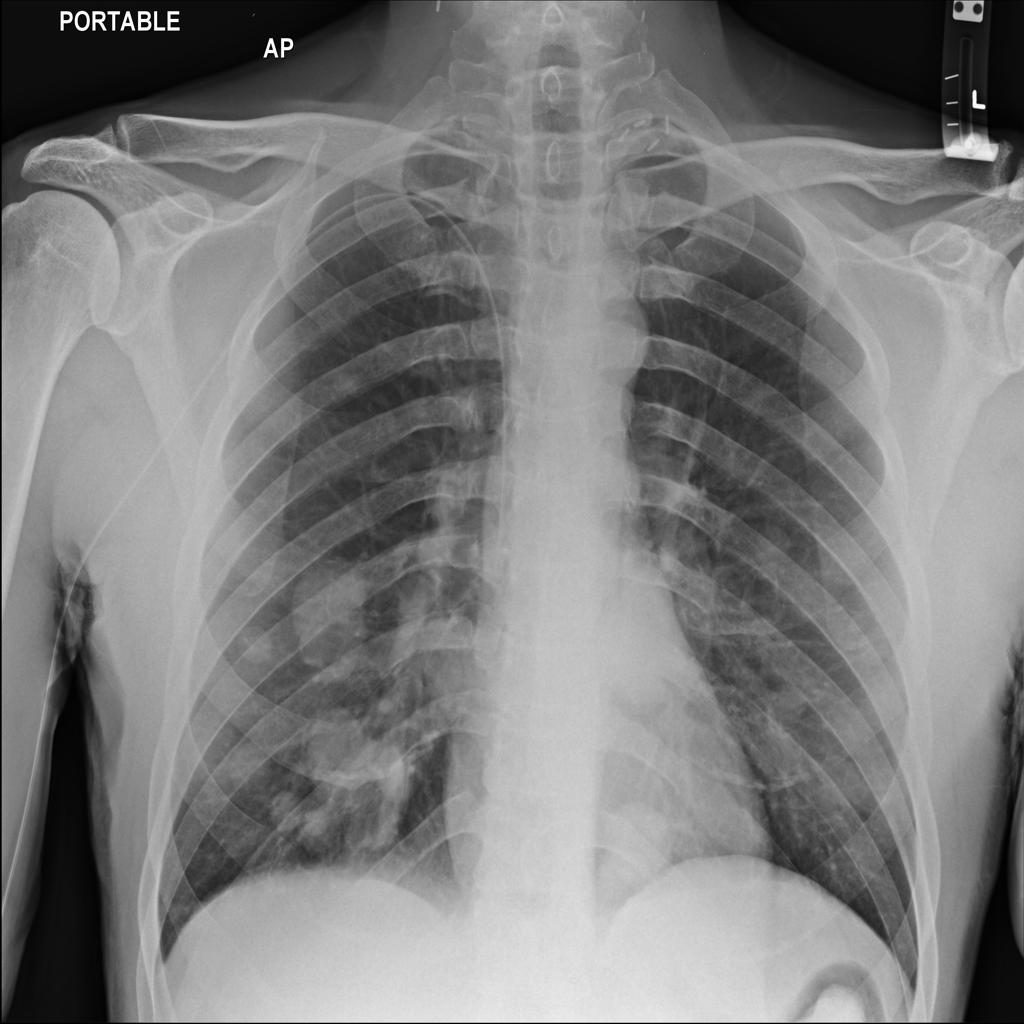nodule: (278, 542, 391, 677), (296, 700, 407, 818), (587, 783, 687, 903), (259, 782, 332, 857), (225, 605, 288, 679), (216, 730, 282, 800)
